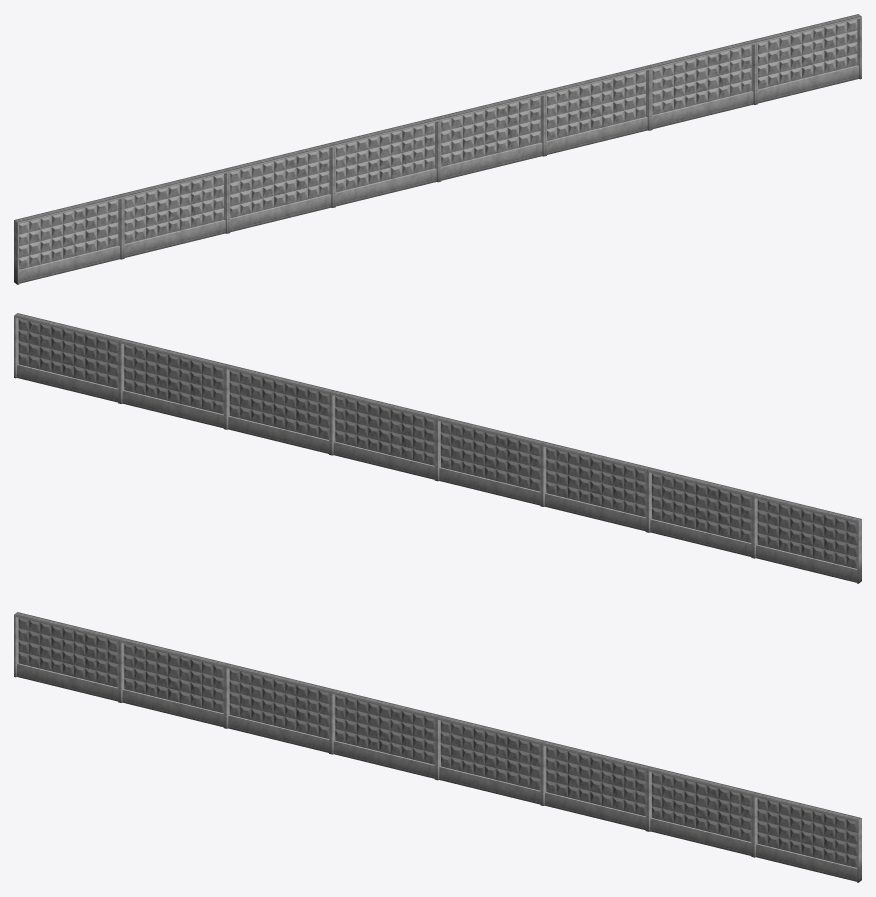
Rendered from FenceConcrete1_4.FBX.
The picture shows the model from 3 angles, top to bottom: view 1: azimuth 30°, elevation 25°; view 2: azimuth 150°, elevation 25°; view 3: azimuth 330°, elevation 25°; orthographic projection.
Visible parts, largest first — view 1: FenceConcrete1; view 2: FenceConcrete1; view 3: FenceConcrete1.
Part boxes in pixels (x1,y1,x2,y2): FenceConcrete1: [14, 14, 861, 284]; FenceConcrete1: [14, 313, 861, 583]; FenceConcrete1: [14, 612, 861, 882].
Bounding box in the file's own units: 1260 × 88.82 × 9.23.
